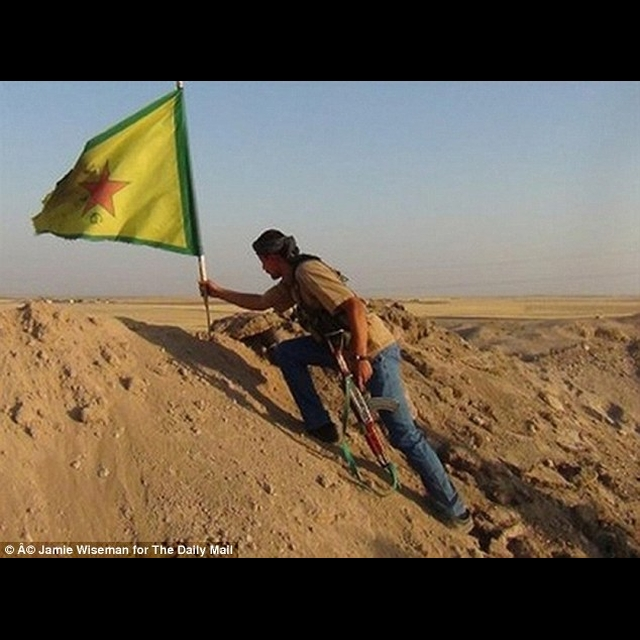AK47: (324, 332, 399, 482)
YPG: (38, 88, 206, 255)
